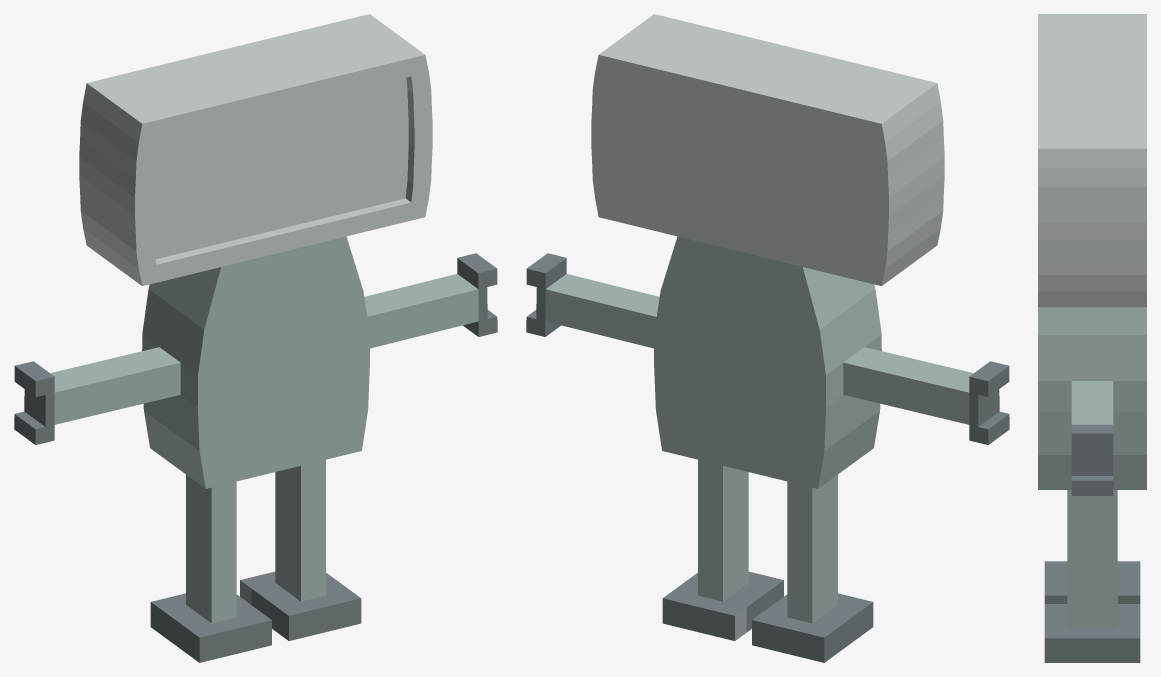
The model's file is character.fbx.
The picture shows the model from 3 angles, left to right: view 1: azimuth 30°, elevation 25°; view 2: azimuth 150°, elevation 25°; view 3: azimuth 270°, elevation 25°; orthographic projection. The views are drawn at different scales.
Parts seen in each view (by area): view 1: pCube1; view 2: pCube1; view 3: pCube1.
Part boxes in pixels (<box>): pCube1: <box>14,14,497,662</box>; pCube1: <box>526,14,1009,662</box>; pCube1: <box>1038,14,1146,662</box>.
Bounding box in the file's own units: 7.73 × 8.9 × 1.62.
1 material, 1 textured.
